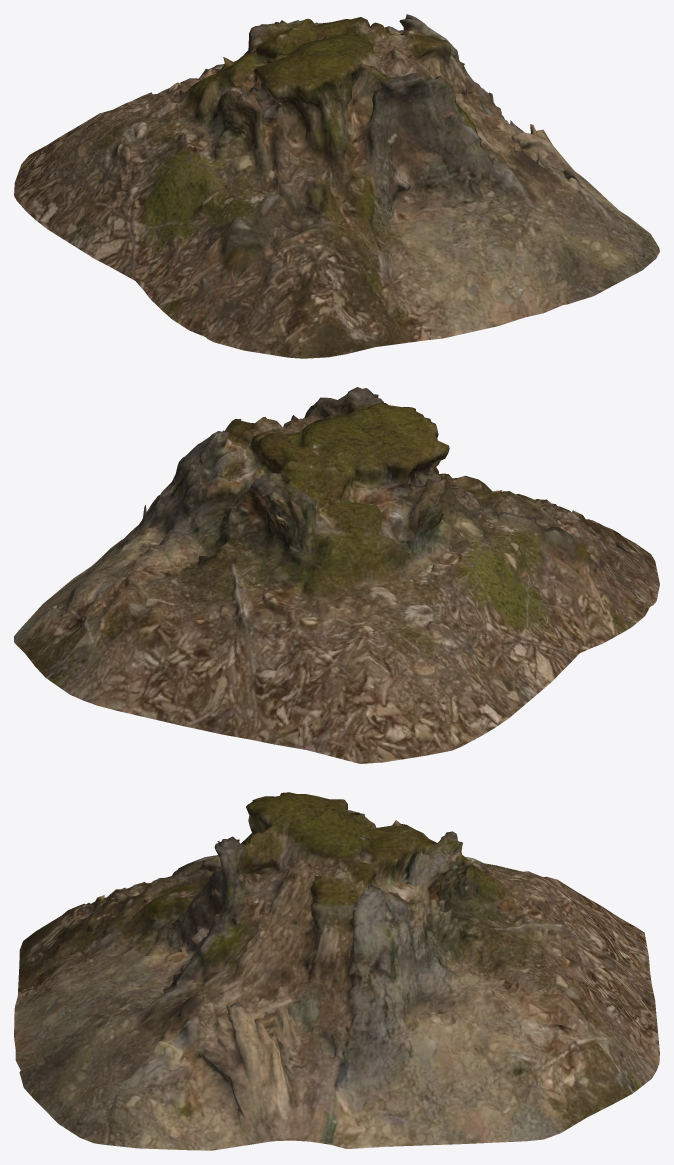
The model's file is stump.glb.
3 views of the same model, one above another, from view 1: azimuth 30°, elevation 25°; view 2: azimuth 150°, elevation 25°; view 3: azimuth 270°, elevation 25° (orthographic). The views are drawn at different scales.
Parts seen in each view (by area): view 1: tree_stump_01; view 2: tree_stump_01; view 3: tree_stump_01.
Part boxes in pixels (<box>): tree_stump_01: <box>14,14,659,358</box>; tree_stump_01: <box>14,387,659,763</box>; tree_stump_01: <box>14,792,659,1150</box>.
Bounding box in the file's own units: 1.43 × 0.5725 × 1.59.
1 material, 1 textured.
